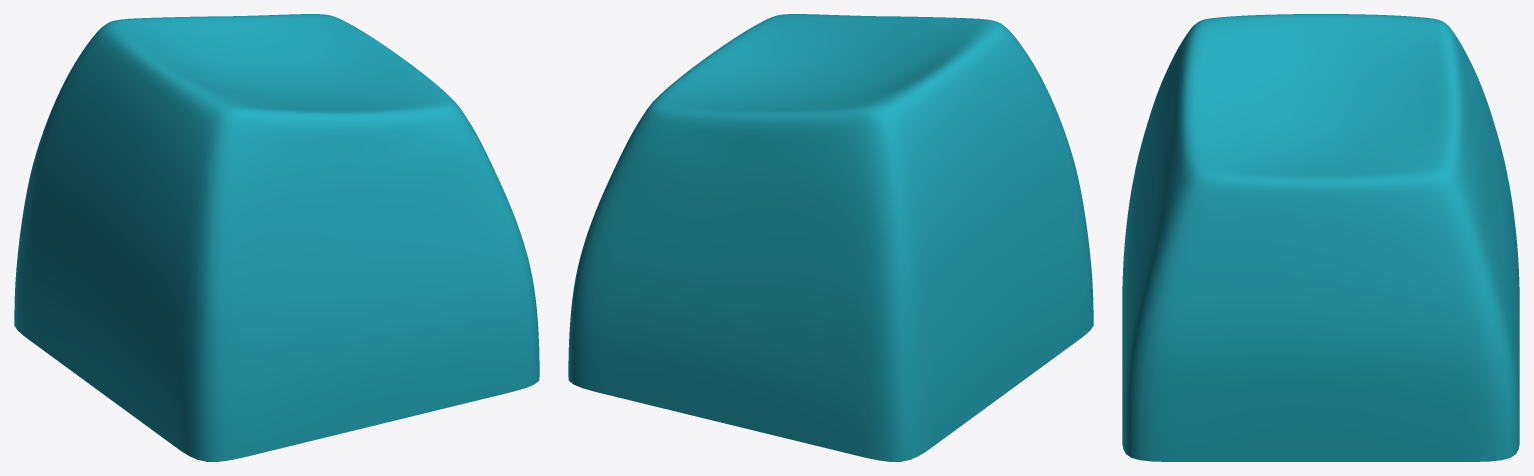
File: SAKeycap.glb
3 renders of one model, left to right at view 1: azimuth 30°, elevation 25°; view 2: azimuth 150°, elevation 25°; view 3: azimuth 270°, elevation 25°, orthographic.
Parts seen in each view (by area): view 1: R1_1U_Mesh; view 2: R1_1U_Mesh; view 3: R1_1U_Mesh.
Boxes of the visible parts, x1,y1,x2,y2 form: R1_1U_Mesh: (14,14,539,461); R1_1U_Mesh: (568,14,1093,461); R1_1U_Mesh: (1122,14,1519,461).
Bounding box in the file's own units: 0.018 × 0.0154 × 0.018.
